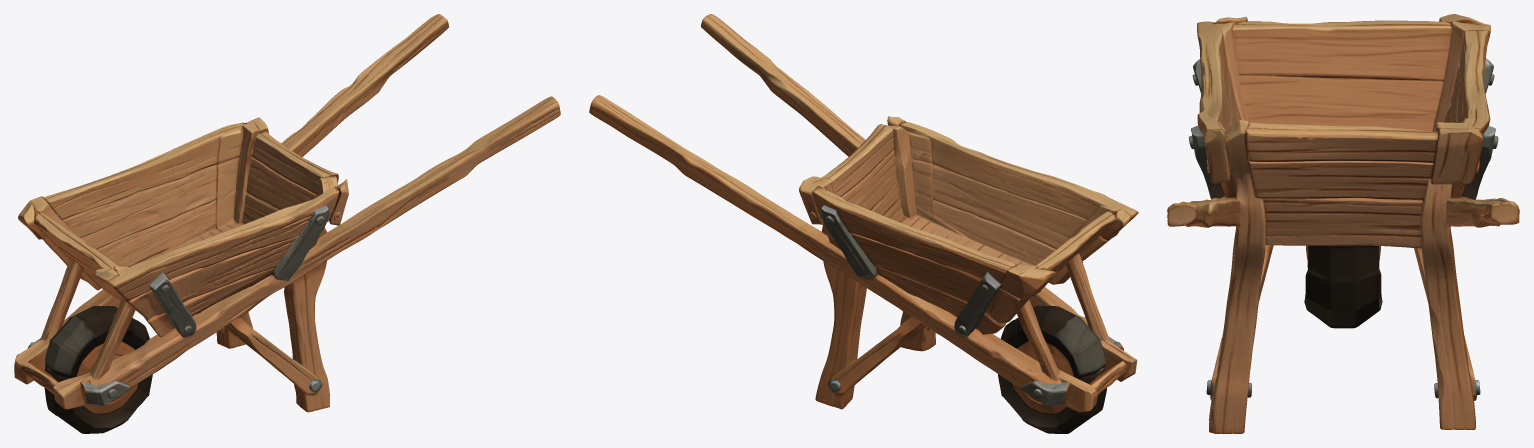
Rendered from wooden_wheelbarrow_3d_model.fbx.
The picture shows the model from 3 angles, left to right: view 1: azimuth 30°, elevation 25°; view 2: azimuth 150°, elevation 25°; view 3: azimuth 270°, elevation 25°; orthographic projection. The views are drawn at different scales.
Visible parts, largest first — view 1: tripo_node_b2c31840; view 2: tripo_node_b2c31840; view 3: tripo_node_b2c31840.
Part boxes in pixels (<box>): tripo_node_b2c31840: <box>14,14,560,433</box>; tripo_node_b2c31840: <box>589,14,1138,433</box>; tripo_node_b2c31840: <box>1167,14,1519,433</box>.
Bounding box in the file's own units: 0.98 × 0.5568 × 0.4463.
